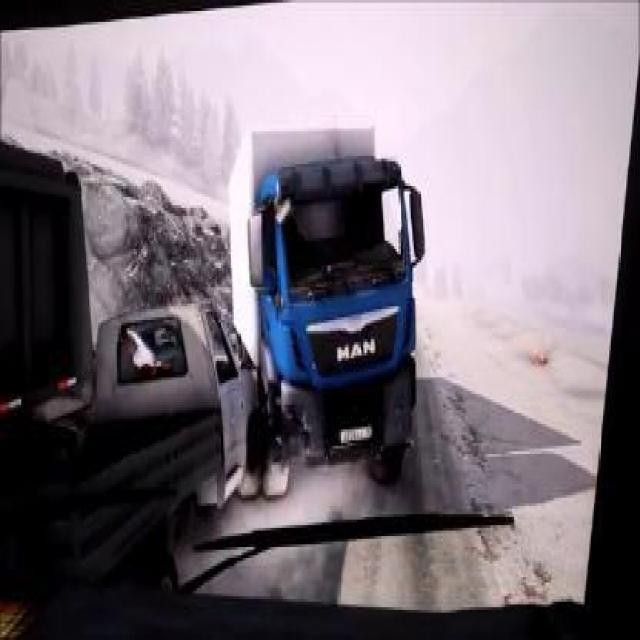accident: (0, 96, 431, 637)
